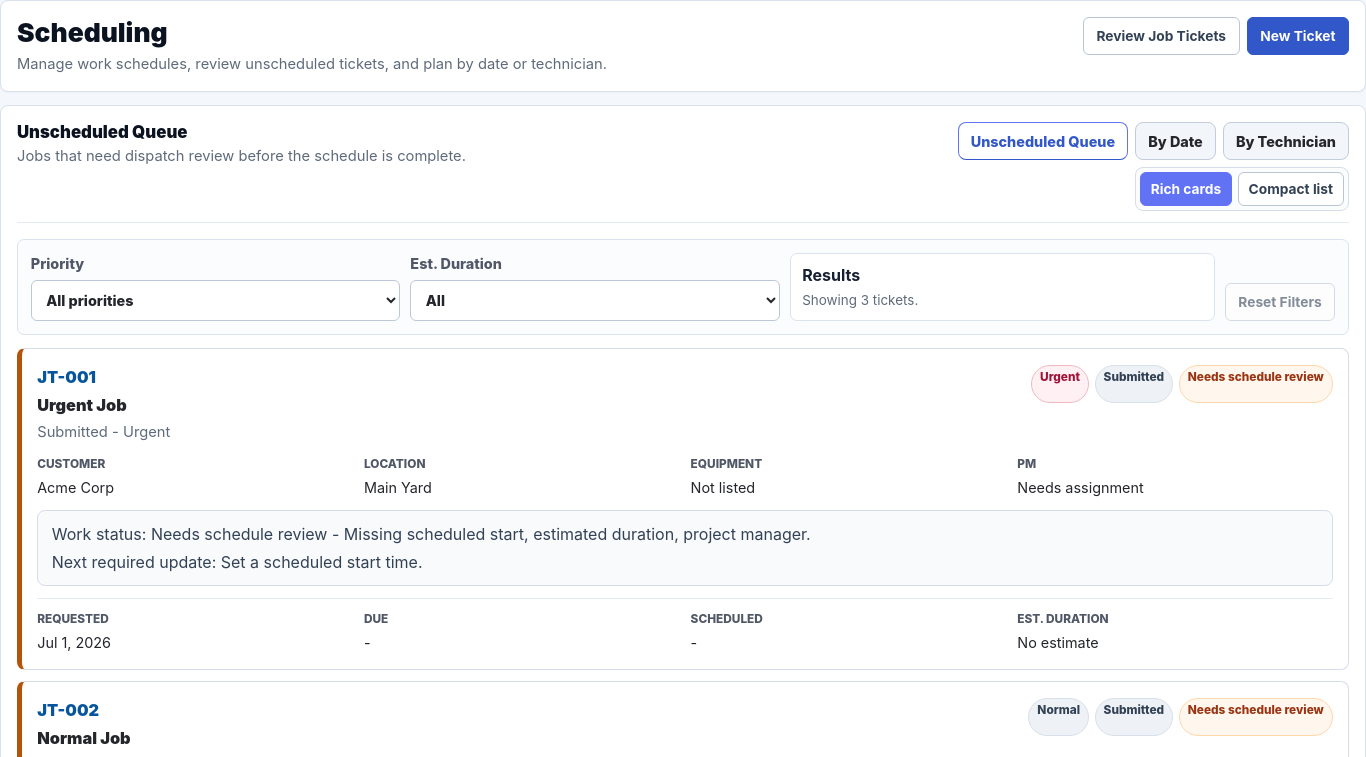
Scenario: SchedulePage — Priority filter › filters to urgent tickets when Urgent is selected
The image size is (1366, 757).
Expected: the link "JT-001" is shown, x1=37 y1=366 x2=96 y2=386
Select "Urgent" in the dropdown labelled "Priority" at (215, 301), box x1=31 y1=280 x2=400 y2=321
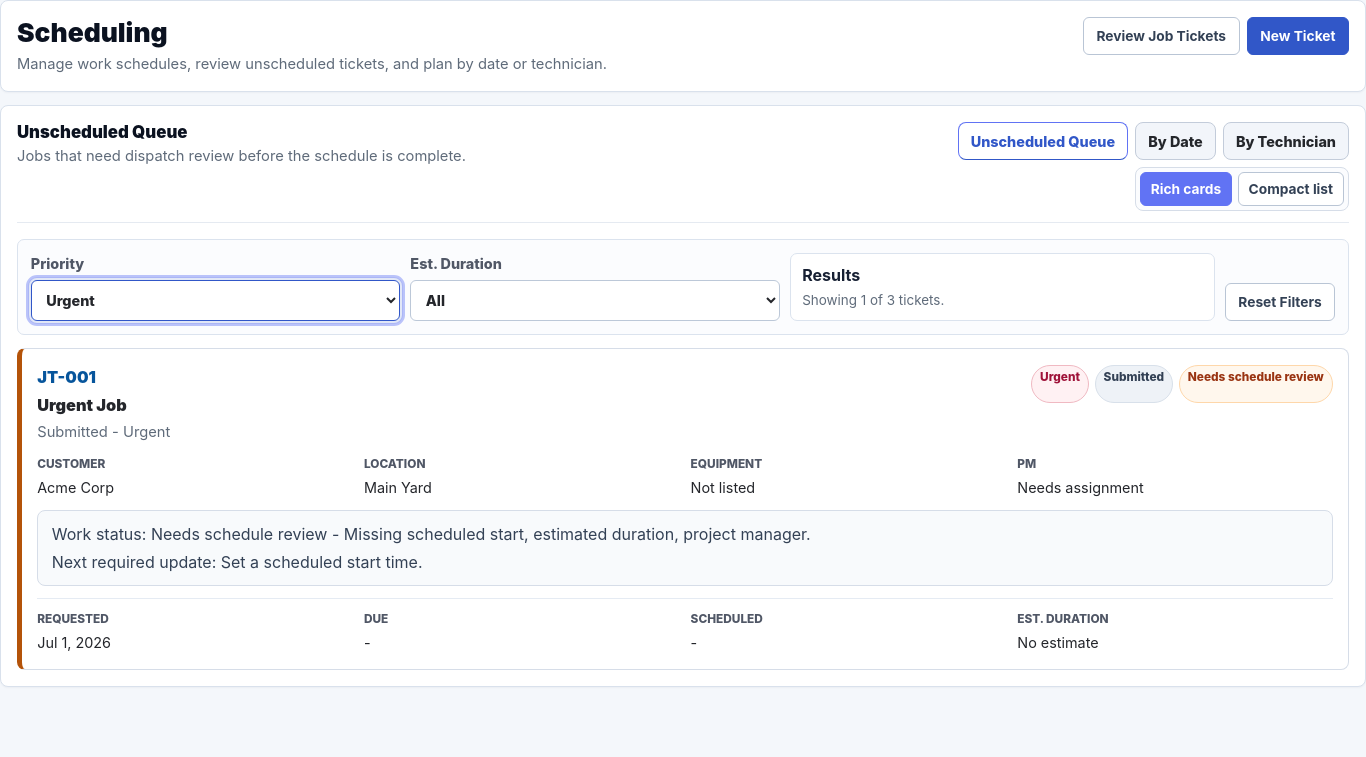
Expected: the link "JT-001" is shown, x1=37 y1=366 x2=96 y2=386
Now the link "JT-002" is gone
